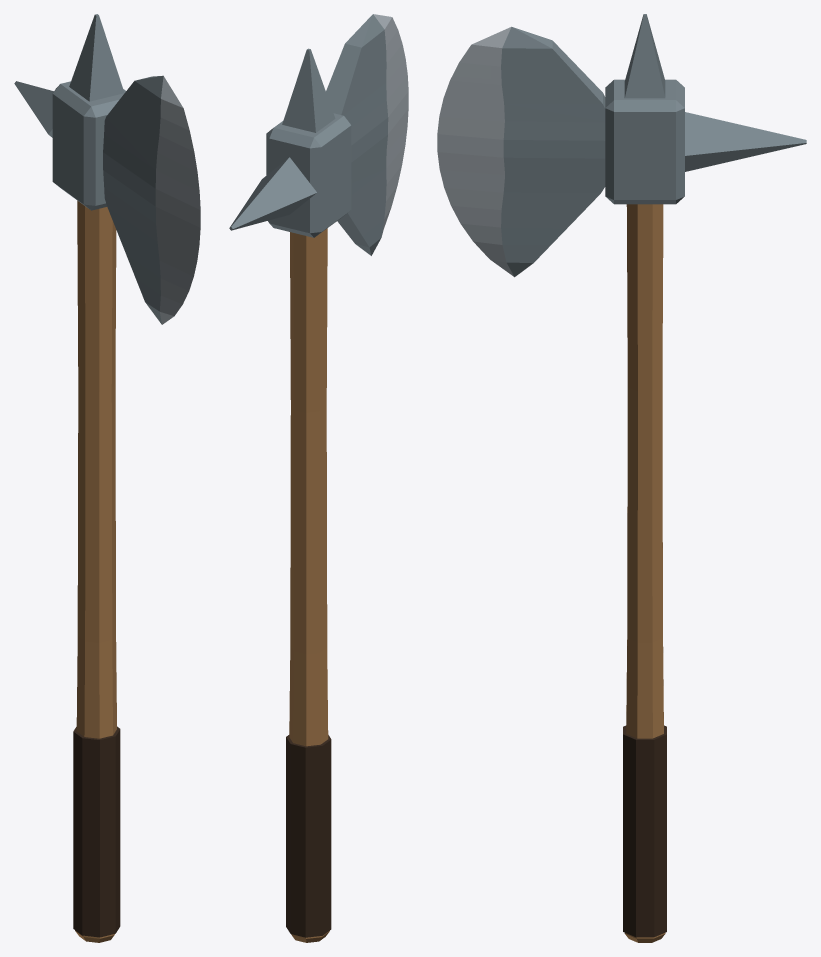
Rendered from axe-1uGMtOSX.glb.
The picture shows the model from 3 angles, left to right: view 1: azimuth 30°, elevation 25°; view 2: azimuth 150°, elevation 25°; view 3: azimuth 270°, elevation 25°; orthographic projection. The views are drawn at different scales.
Visible parts, largest first — view 1: Object_4; view 2: Object_4; view 3: Object_4.
Boxes of the visible parts, left/top/right/bottom form: Object_4: left=14, top=14, right=200, bottom=942; Object_4: left=229, top=14, right=408, bottom=942; Object_4: left=437, top=14, right=806, bottom=942.
Size of the model in its own units: 0.0509 by 0.78 by 0.2833.
Materials: 1 (1 with a texture image).
